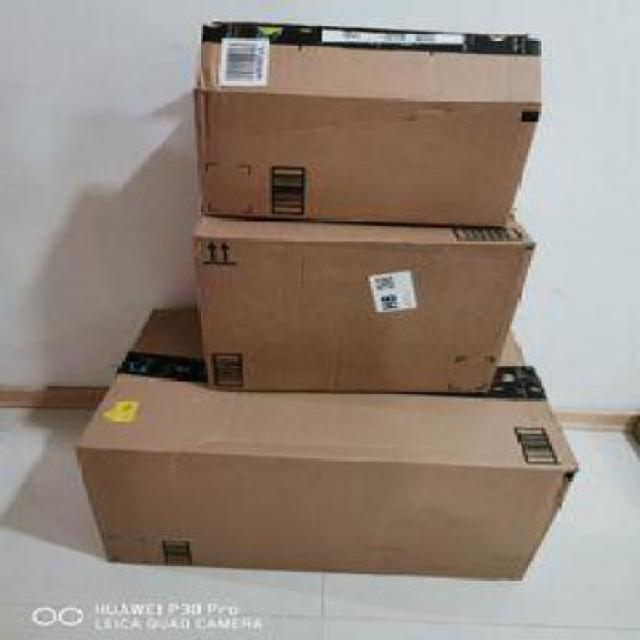box: (79, 307, 580, 586), (198, 17, 544, 227), (188, 207, 540, 397)
